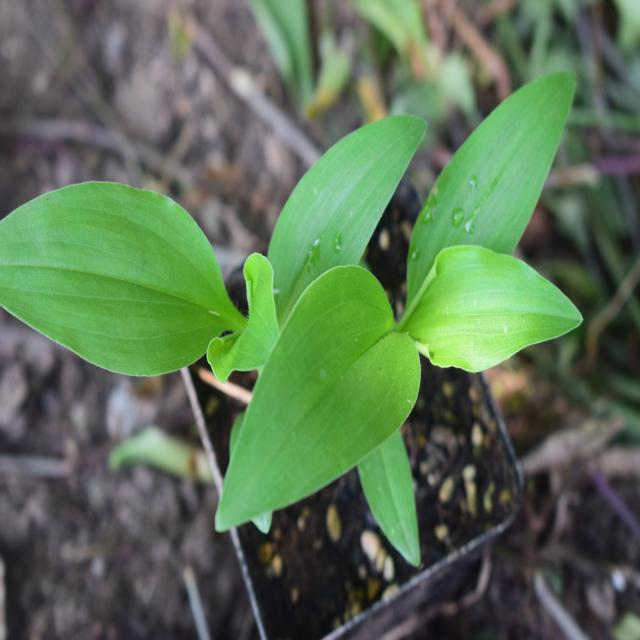Common Dayflower: (215, 72, 581, 539), (2, 173, 220, 386)
